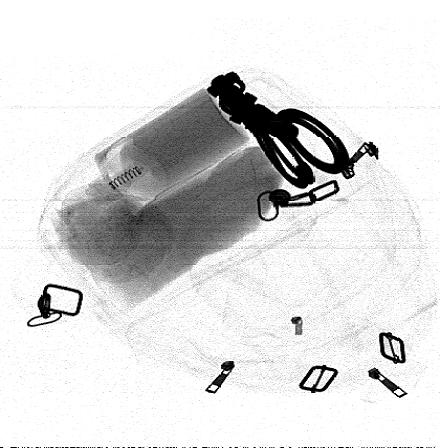HandCuffs: (205, 71, 349, 188)
